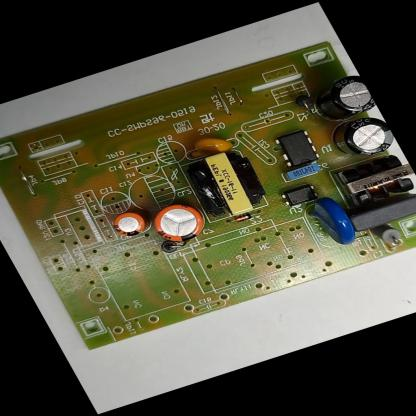Cap1: (145, 198, 212, 248)
Cap2: (108, 208, 150, 240)
Cap3: (322, 110, 400, 166)
Cap4: (302, 72, 378, 128)
MOSFET: (272, 129, 322, 169)
Mov: (298, 192, 362, 253)
Resistor: (368, 220, 406, 249)
Transformer: (179, 146, 271, 222), (332, 149, 416, 210)
